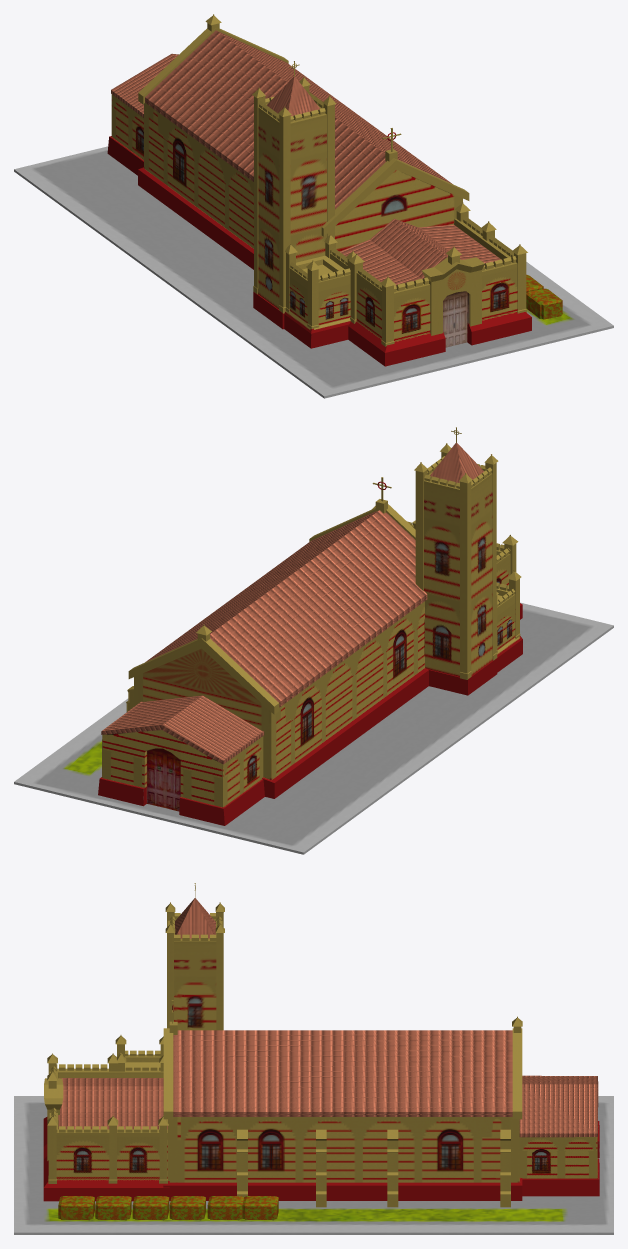
The model's file is igreja nossa senhoraLOD0.fbx.
3 views of the same model, one above another, from view 1: azimuth 30°, elevation 25°; view 2: azimuth 150°, elevation 25°; view 3: azimuth 270°, elevation 25° (orthographic). The views are drawn at different scales.
Parts seen in each view (by area): view 1: IgrejaNossaSenhoraLOD0; view 2: IgrejaNossaSenhoraLOD0; view 3: IgrejaNossaSenhoraLOD0.
Part boxes in pixels (<box>): IgrejaNossaSenhoraLOD0: <box>14,14,613,398</box>; IgrejaNossaSenhoraLOD0: <box>14,427,613,854</box>; IgrejaNossaSenhoraLOD0: <box>14,883,613,1234</box>.
Size of the model in its own units: 1629 by 1362 by 3022.
Materials: 1 (1 with a texture image).
